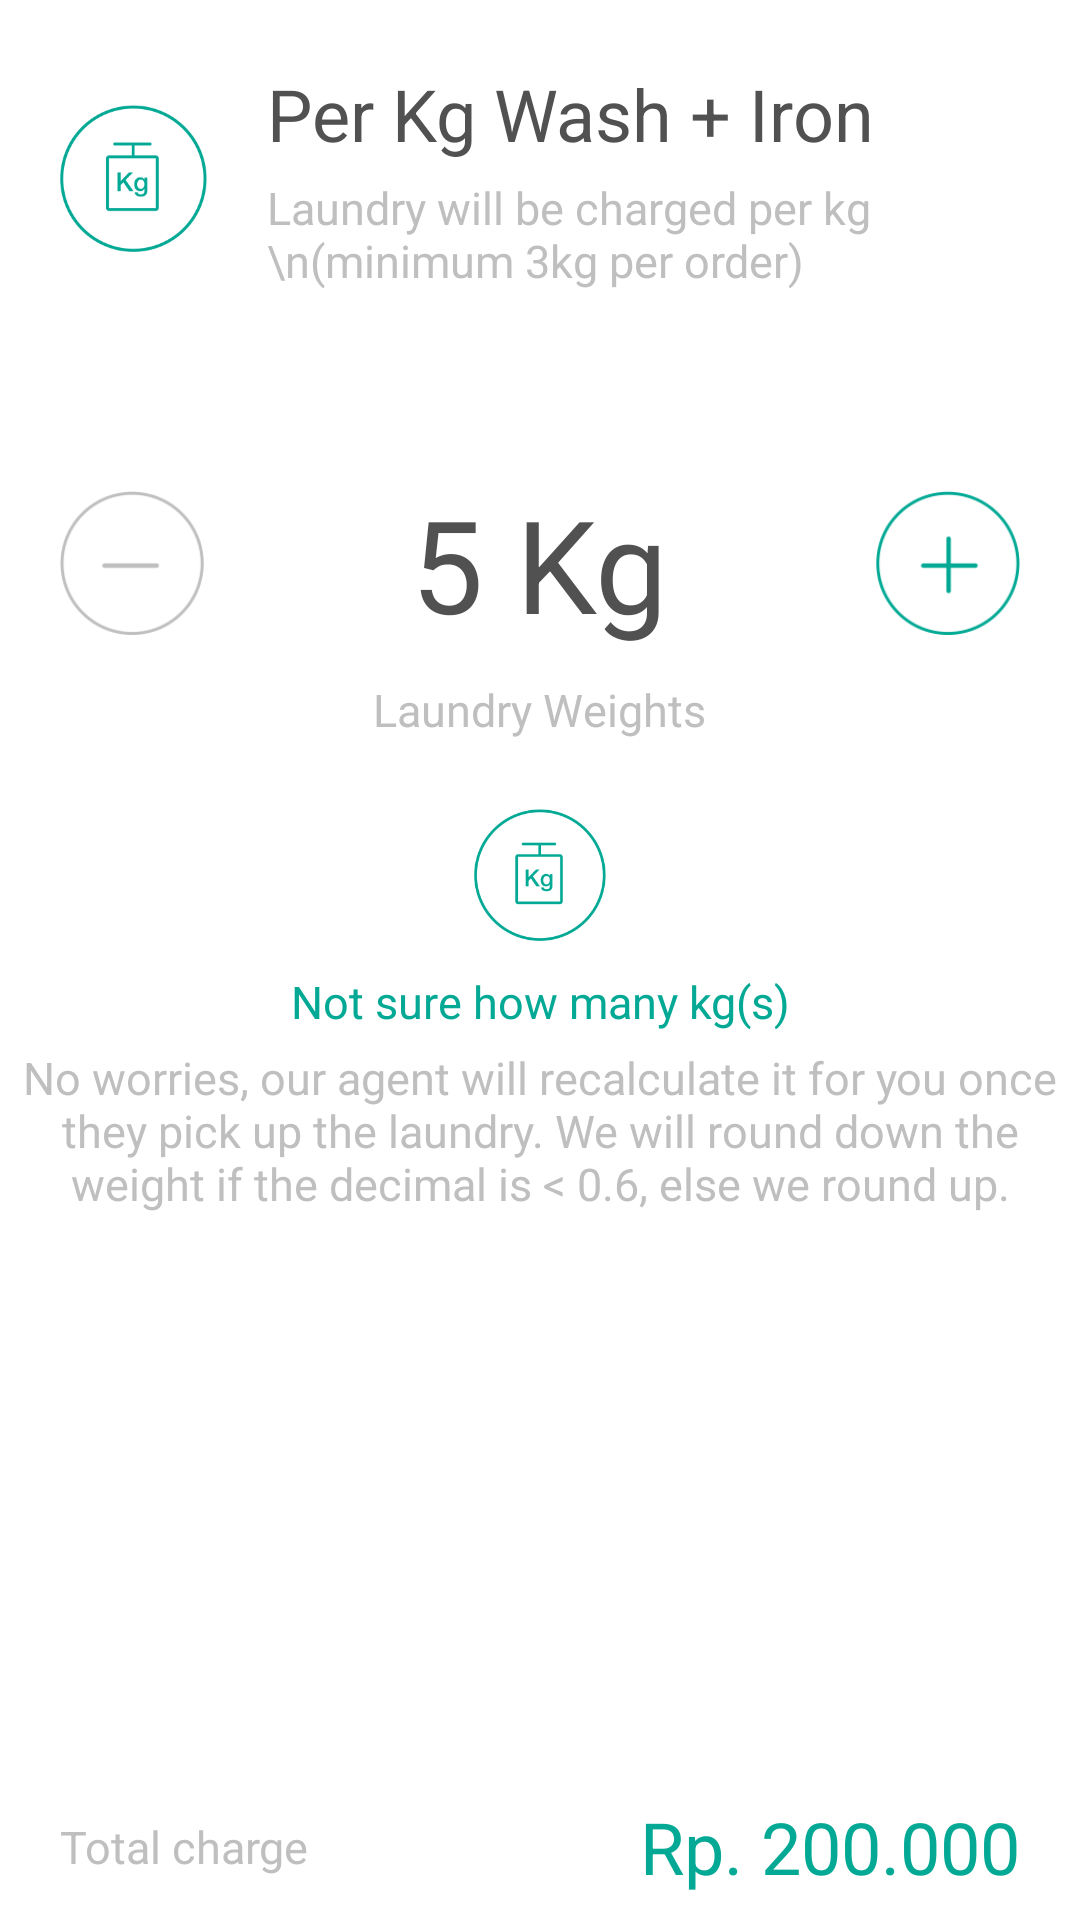

Screen size 1080×1920. Icon name, then its box in pixels as (x1, y1, x2, y2):
add: (876, 491, 1020, 635)
minus: (60, 492, 204, 635)
